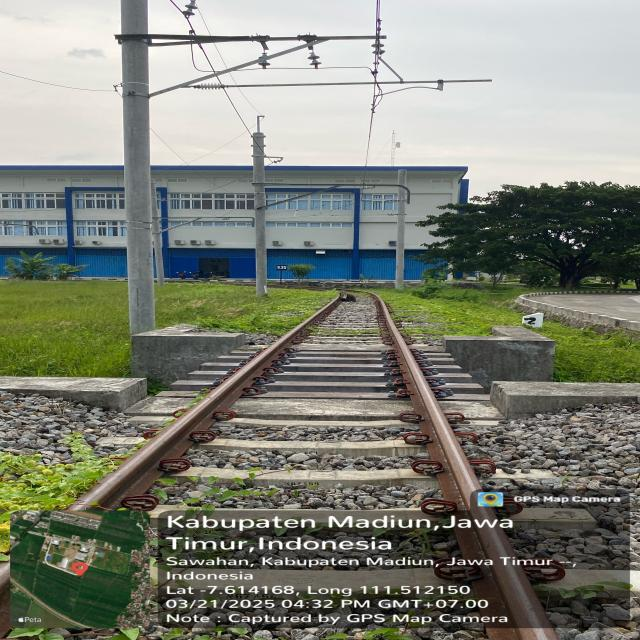rail-detection: (370, 294, 558, 640), (70, 297, 340, 510)
